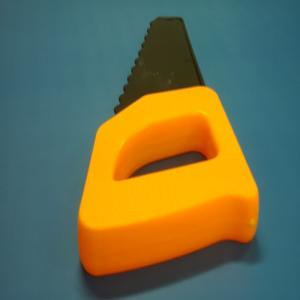serrote: (76, 16, 260, 278)
